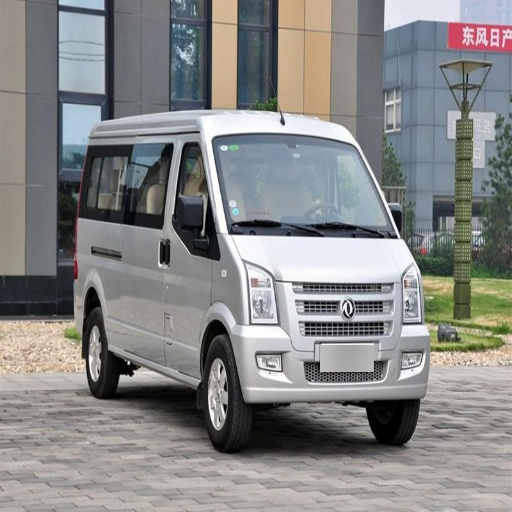front_bumper: (232, 280, 429, 402)
front_right_door: (145, 141, 218, 372)
front_right_light: (247, 269, 280, 324)
hood: (233, 236, 410, 282)
